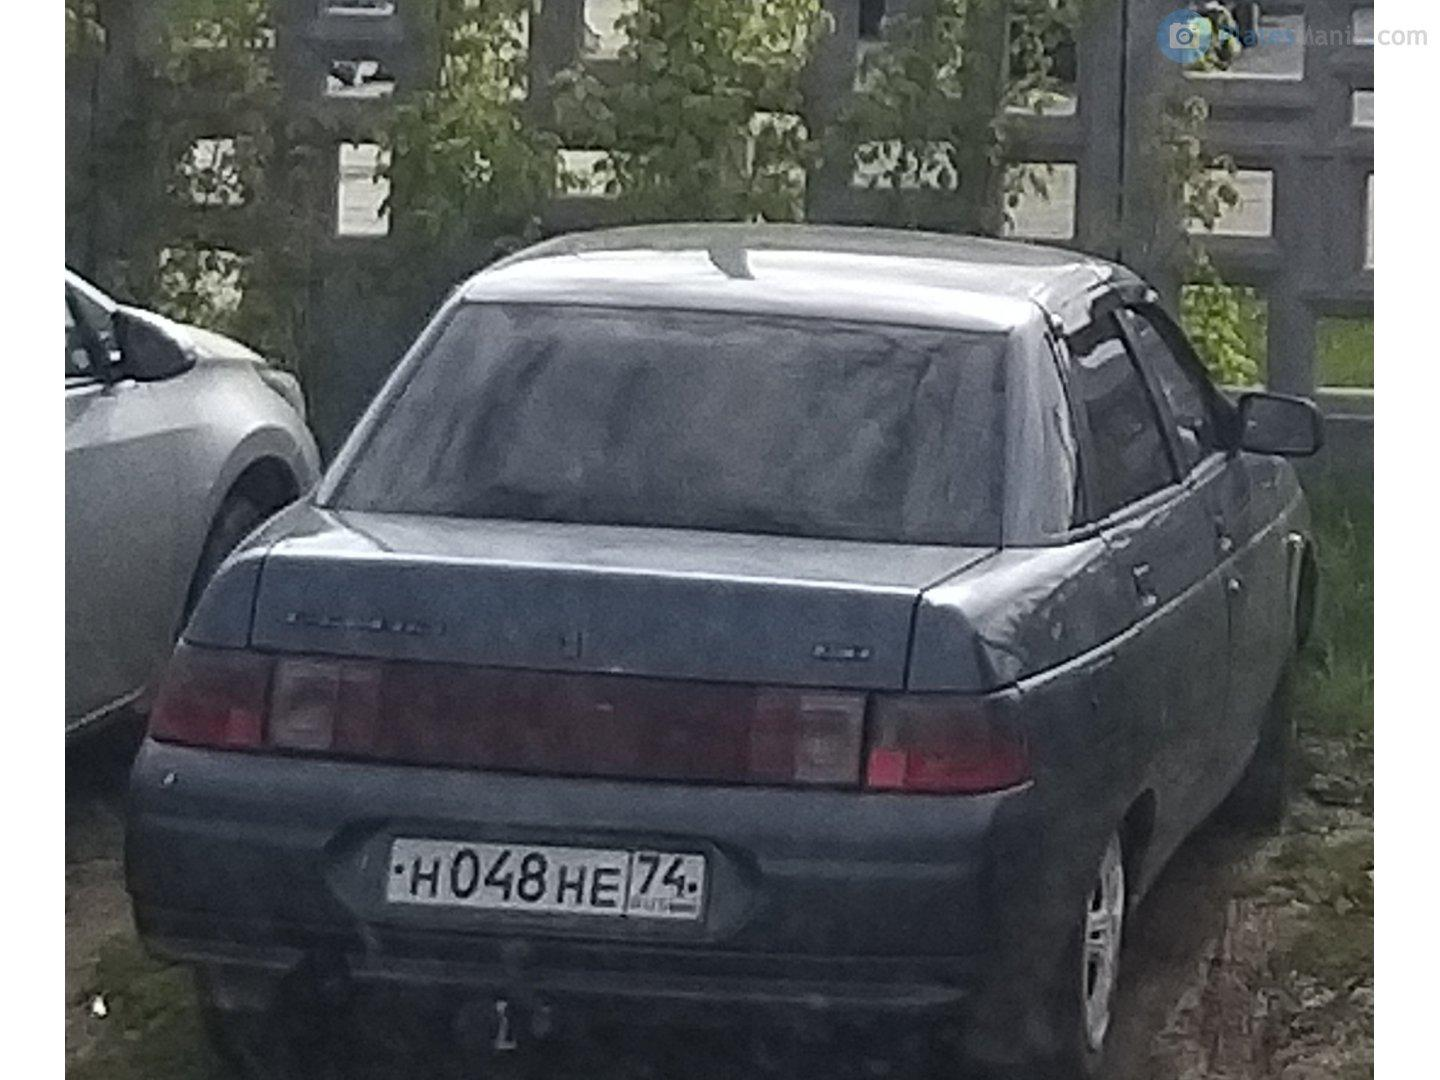license-plateSW: (382, 841, 704, 929)
